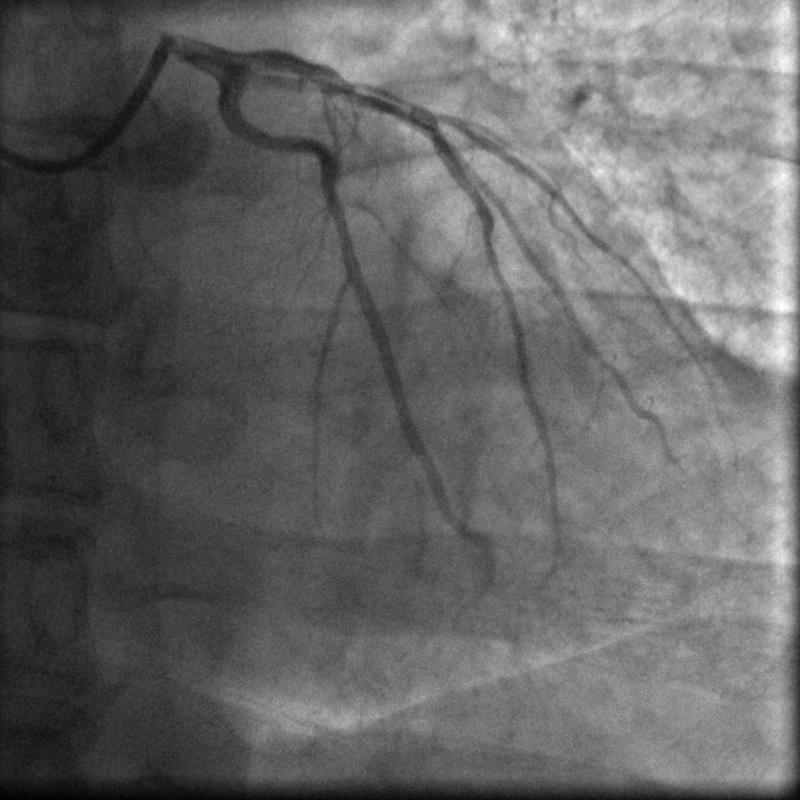Stenosis: (335, 71, 422, 116)
